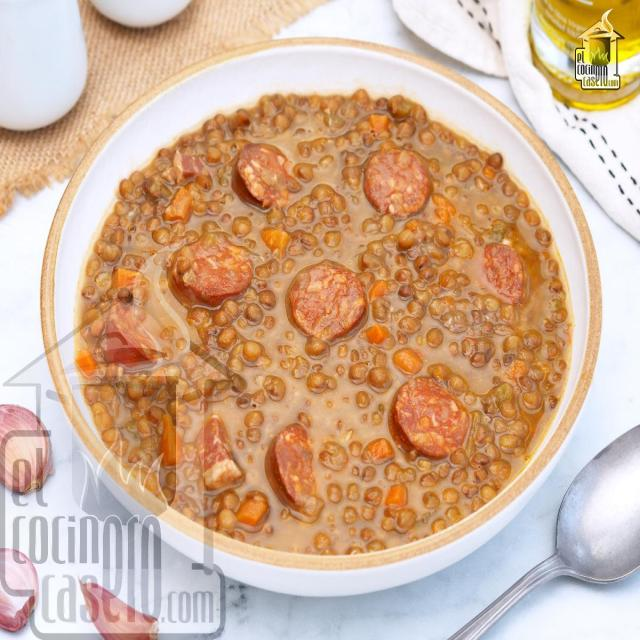lentejas: (86, 78, 576, 569)
